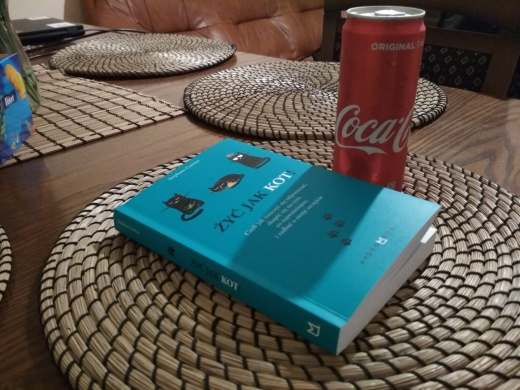cola: (333, 3, 430, 219)
